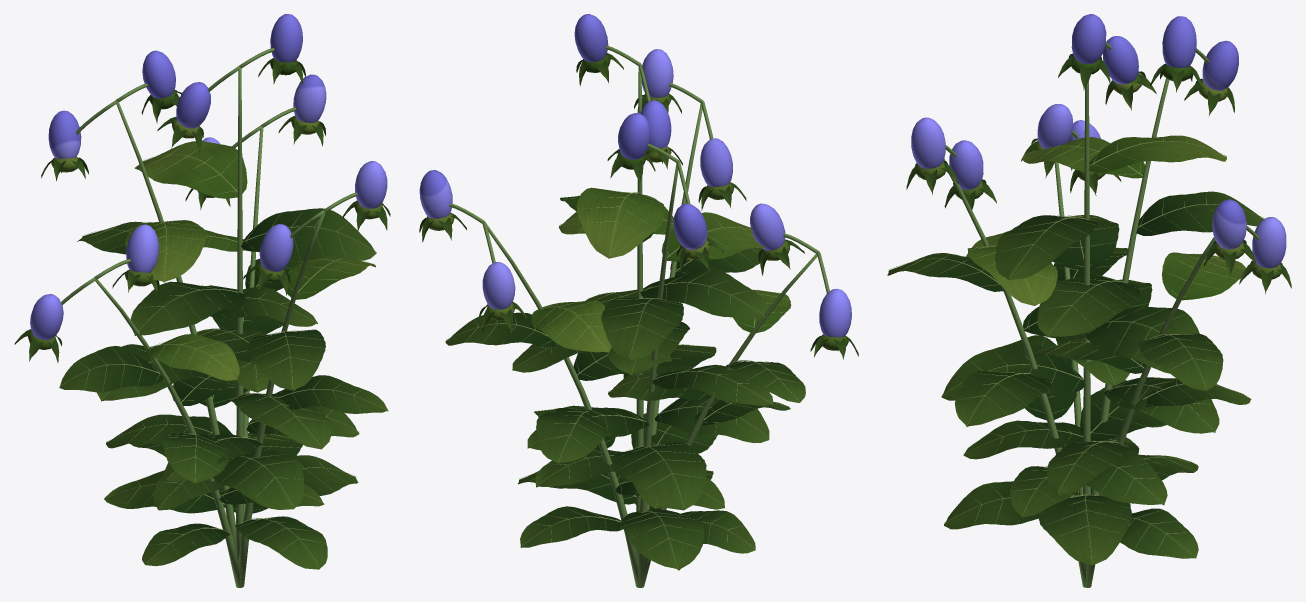
Rendered from bellflower-08.glb.
The picture shows the model from 3 angles, left to right: view 1: azimuth 30°, elevation 25°; view 2: azimuth 150°, elevation 25°; view 3: azimuth 270°, elevation 25°; orthographic projection. The views are drawn at different scales.
Parts seen in each view (by area): view 1: bellflower_stage_08_leaf_veins.014, bellflower_stage_08_young_leaf.014, bellflower_stage_08_bellflower_petal.014, bellflower_stage_08_stem_fibres.014, bellflower_stage_08_raised_midveins.014; view 2: bellflower_stage_08_leaf_veins.014, bellflower_stage_08_young_leaf.014, bellflower_stage_08_bellflower_petal.014, bellflower_stage_08_stem_fibres.014, bellflower_stage_08_raised_midveins.014; view 3: bellflower_stage_08_leaf_veins.014, bellflower_stage_08_bellflower_petal.014, bellflower_stage_08_young_leaf.014, bellflower_stage_08_stem_fibres.014, bellflower_stage_08_raised_midveins.014.
Part boxes in pixels (left/top/right/bottom): bellflower_stage_08_leaf_veins.014: left=14, top=58, right=390, bottom=569; bellflower_stage_08_young_leaf.014: left=28, top=59, right=382, bottom=380; bellflower_stage_08_bellflower_petal.014: left=30, top=14, right=387, bottom=340; bellflower_stage_08_stem_fibres.014: left=61, top=48, right=357, bottom=587; bellflower_stage_08_raised_midveins.014: left=59, top=144, right=375, bottom=566; bellflower_stage_08_leaf_veins.014: left=419, top=53, right=858, bottom=570; bellflower_stage_08_young_leaf.014: left=426, top=54, right=848, bottom=353; bellflower_stage_08_bellflower_petal.014: left=419, top=14, right=851, bottom=337; bellflower_stage_08_stem_fibres.014: left=449, top=45, right=829, bottom=587; bellflower_stage_08_raised_midveins.014: left=446, top=187, right=802, bottom=568; bellflower_stage_08_leaf_veins.014: left=887, top=53, right=1291, bottom=565; bellflower_stage_08_bellflower_petal.014: left=911, top=14, right=1286, bottom=268; bellflower_stage_08_young_leaf.014: left=916, top=55, right=1281, bottom=305; bellflower_stage_08_stem_fibres.014: left=944, top=42, right=1259, bottom=587; bellflower_stage_08_raised_midveins.014: left=889, top=137, right=1264, bottom=559.
Size of the model in its own units: 0.4037 by 0.5862 by 0.3597.
5 materials, 3 textured.
